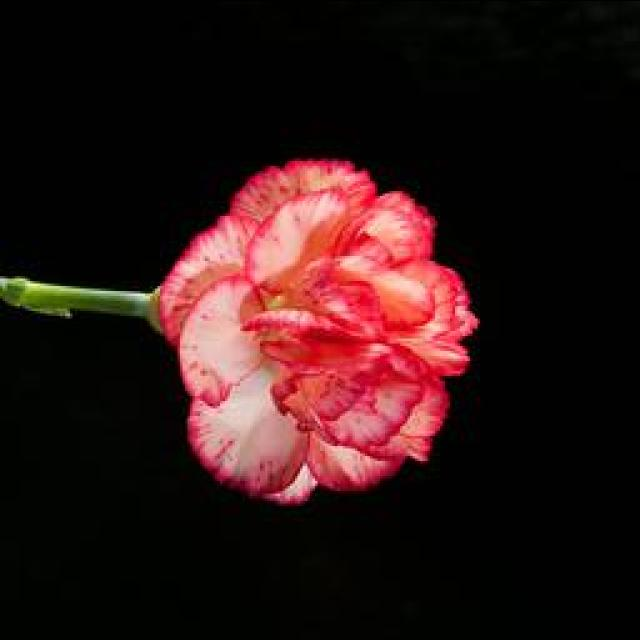carnation: (140, 135, 502, 513)
